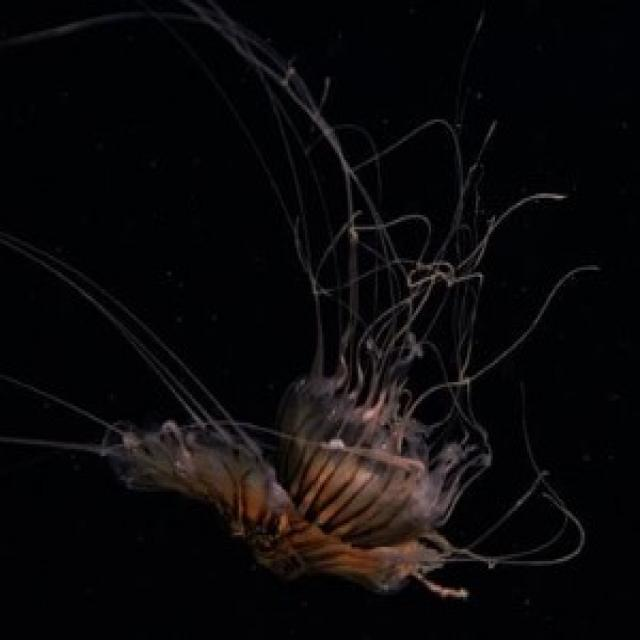Jellyfish: (83, 304, 483, 622)
